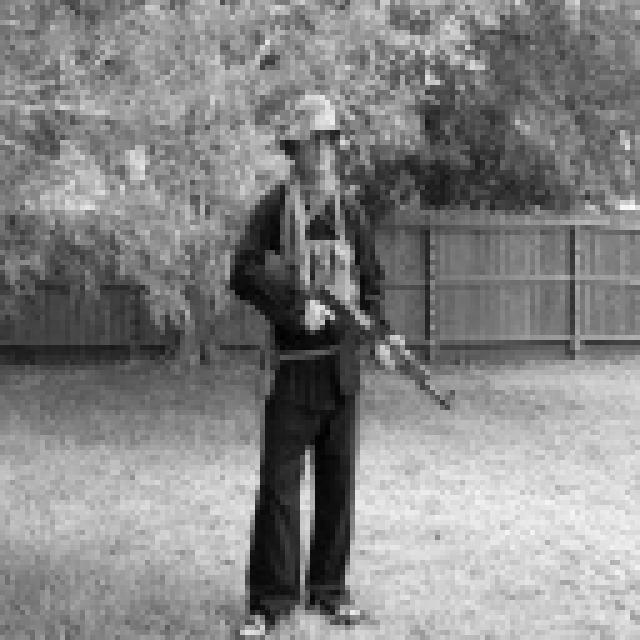Rifle: (294, 259, 507, 445)
